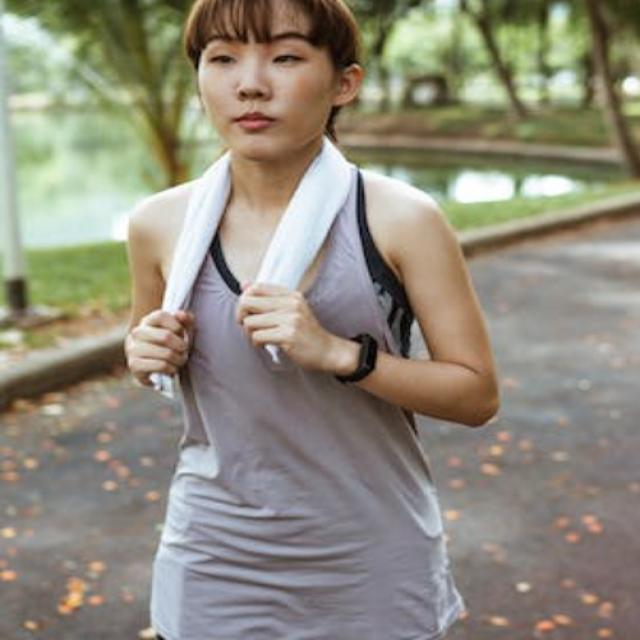Watch: (334, 329, 381, 386)
